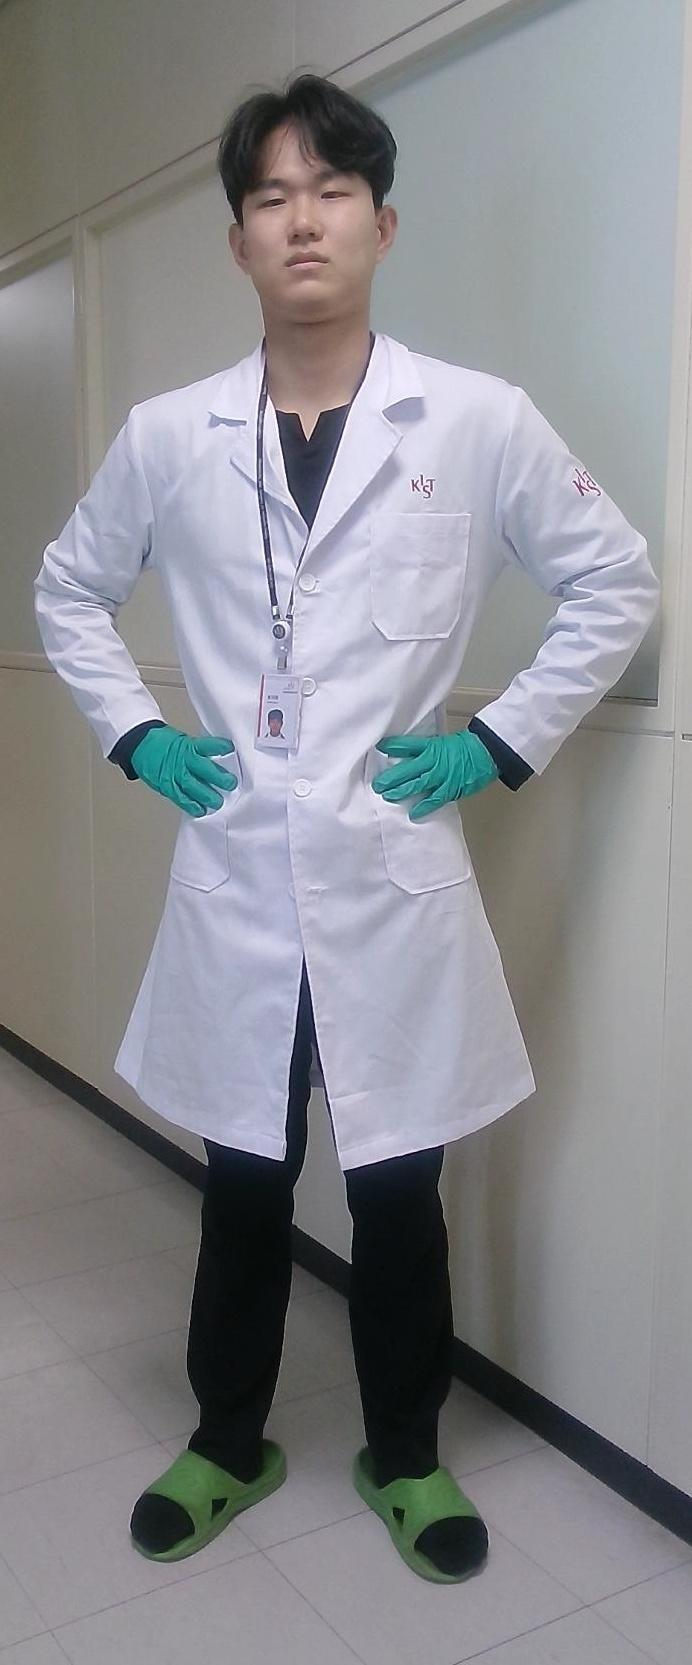lab_coat: (35, 329, 659, 1170)
